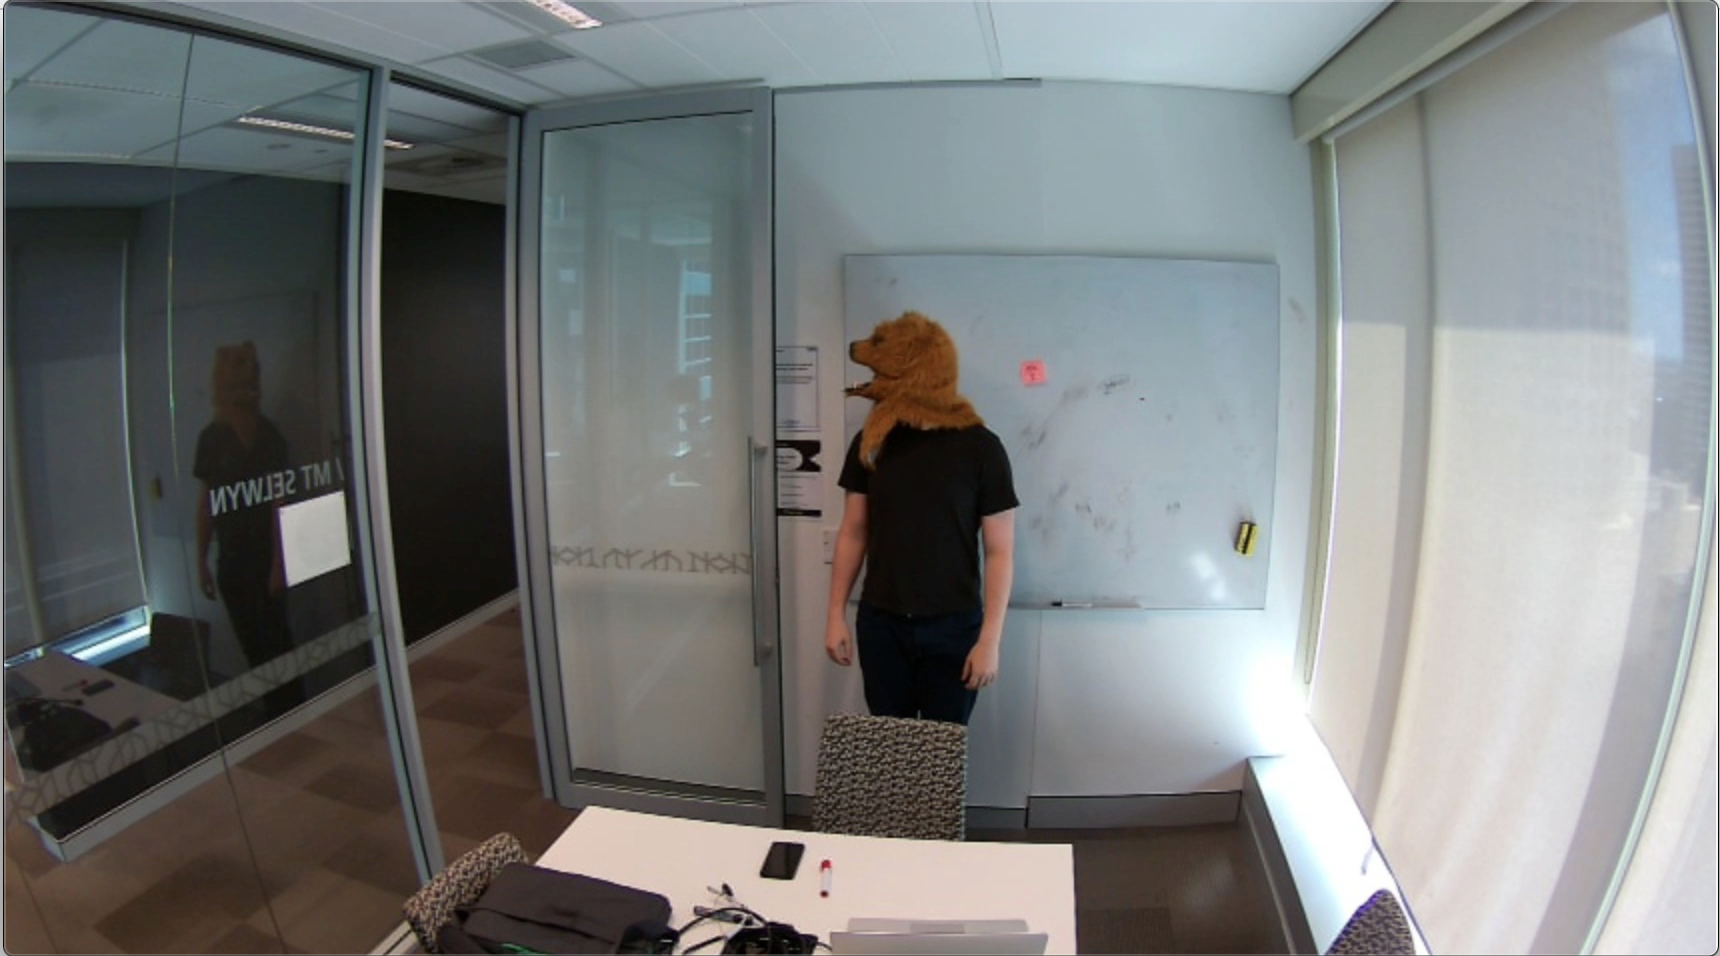Bear: (841, 307, 968, 420)
